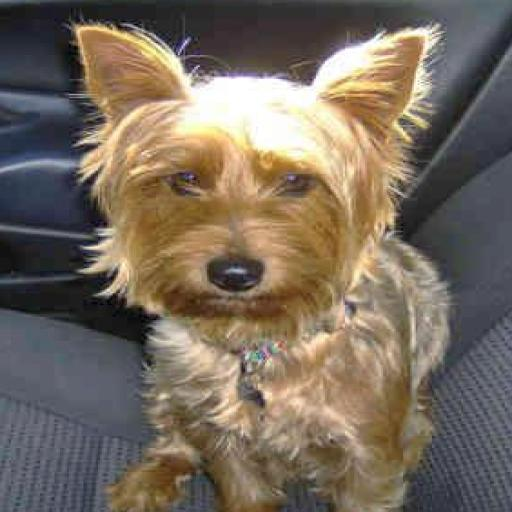dog_face: (71, 22, 432, 325)
